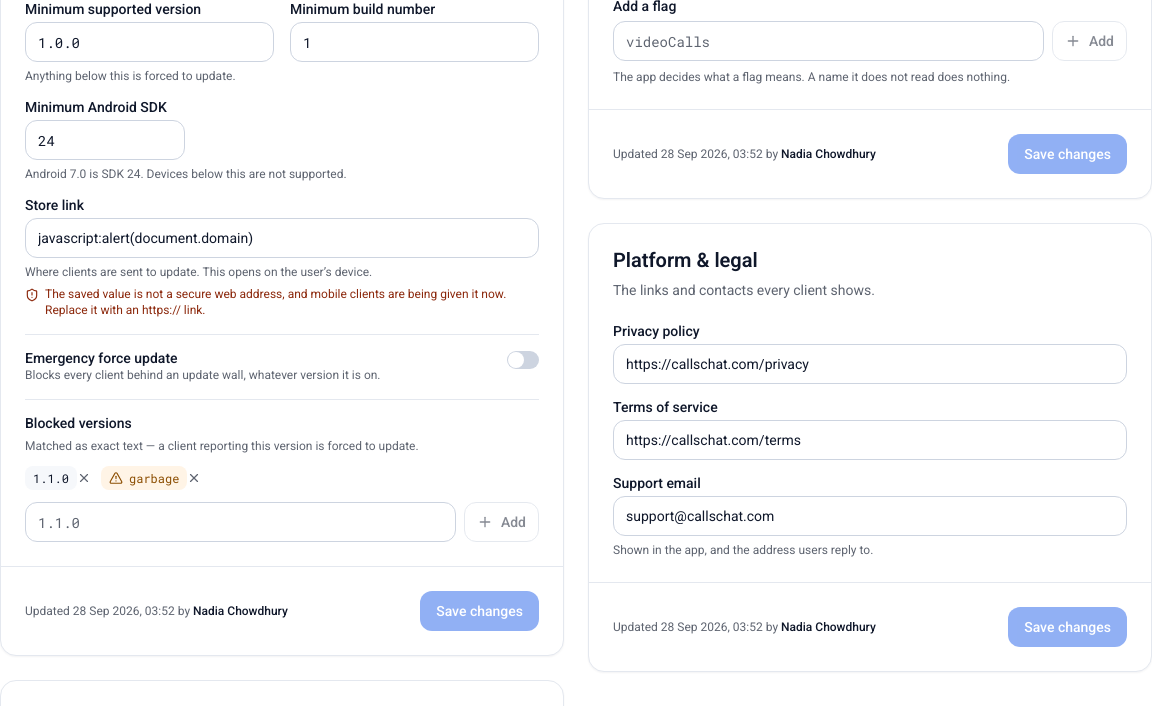
Test case: keyboard traversal of the three dangerous switches › returns focus to the switch when the dialog closes
Click the switch named "Emergency force update": (523, 360) [507,351,539,369]
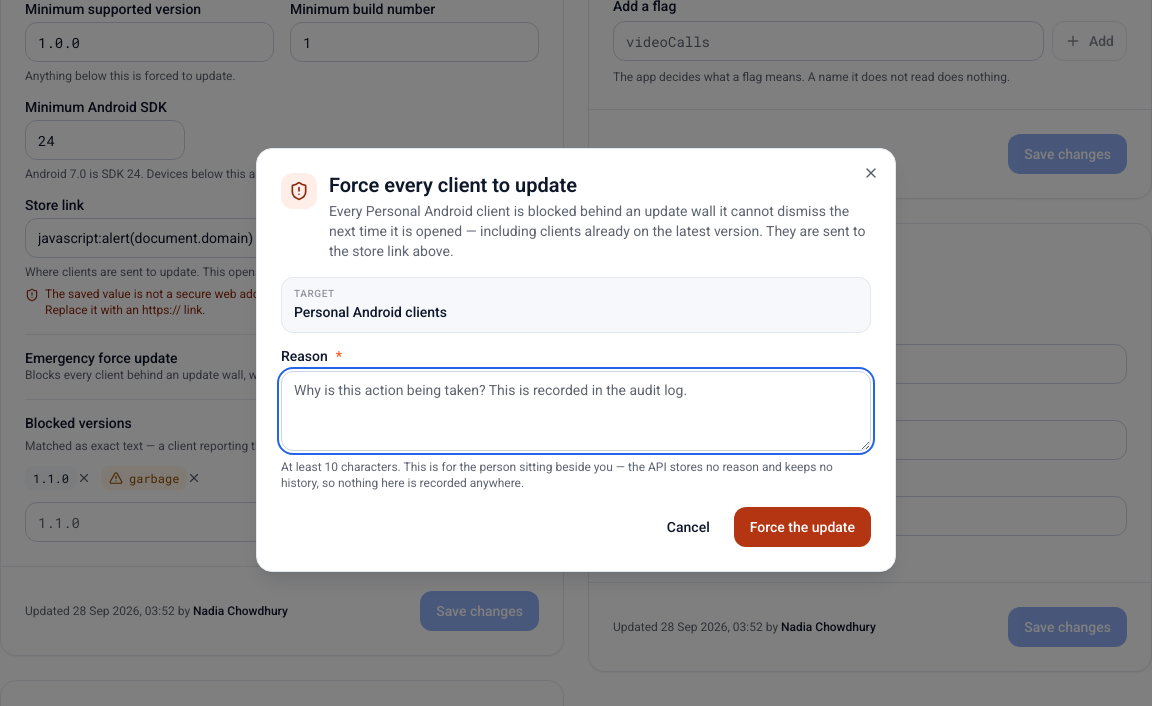
Click the button "Cancel": (688, 527) [651,507,726,547]
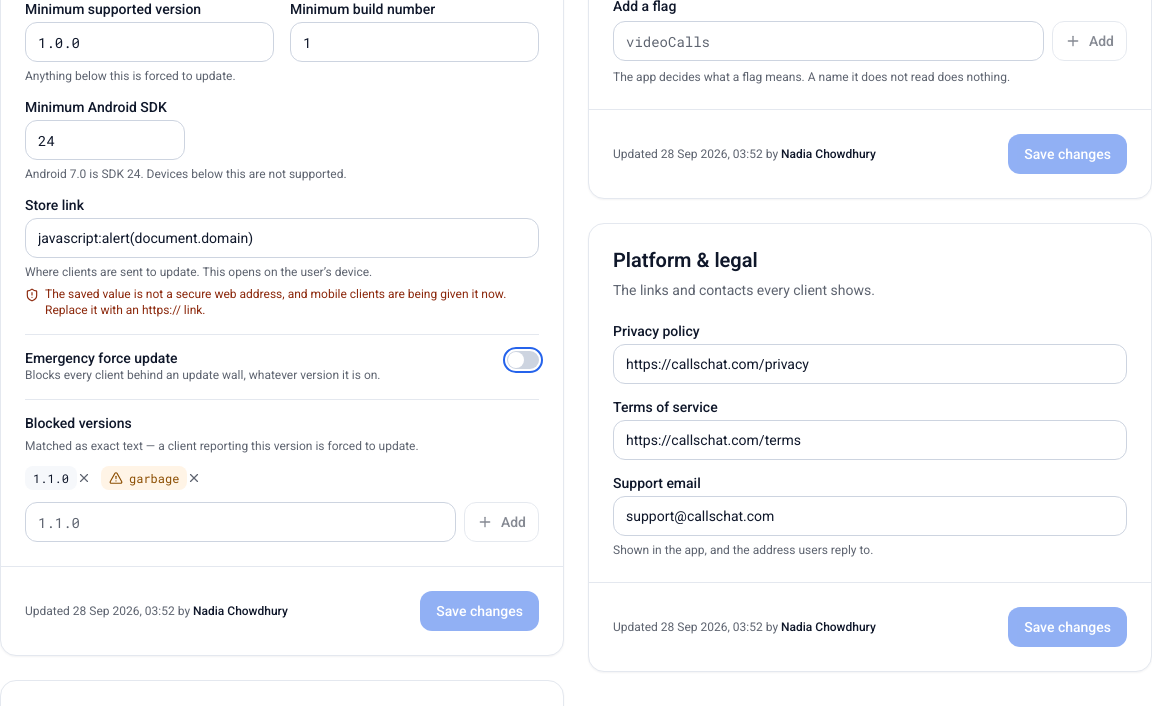
Check: the dialog is gone
